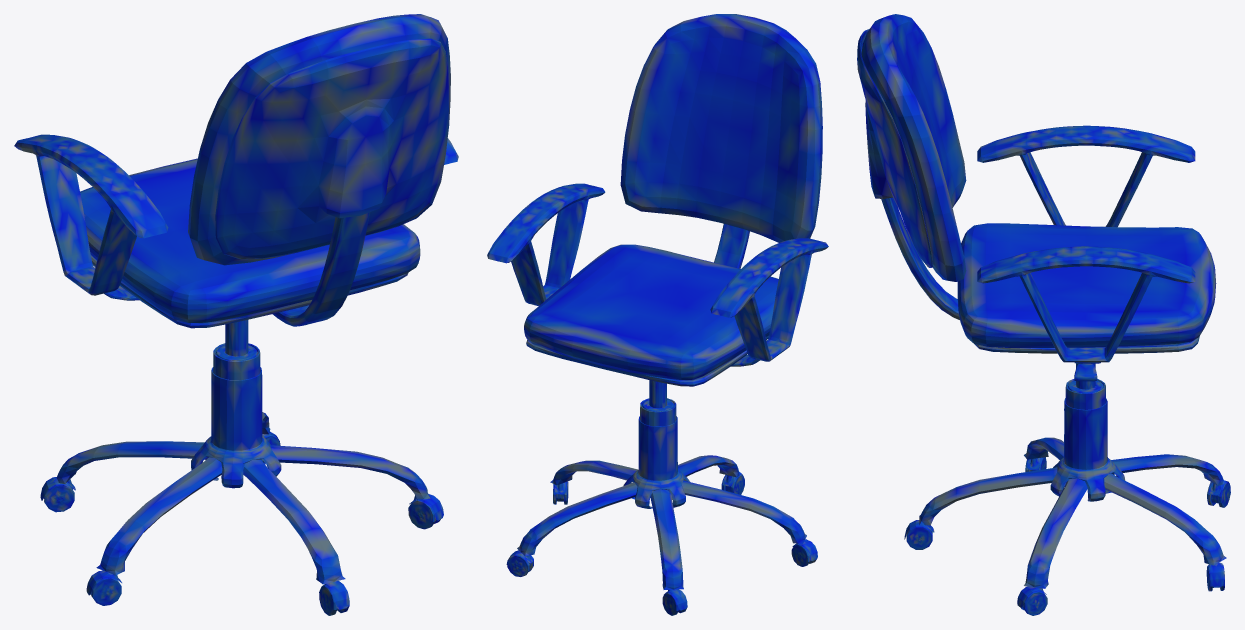
Rendered from chair5_final200.obj.
3 views of the same model, side by side, from view 1: azimuth 30°, elevation 25°; view 2: azimuth 150°, elevation 25°; view 3: azimuth 270°, elevation 25° (orthographic). The views are drawn at different scales.
Bounding box in the file's own units: 0.7977 × 1.33 × 0.8718.
